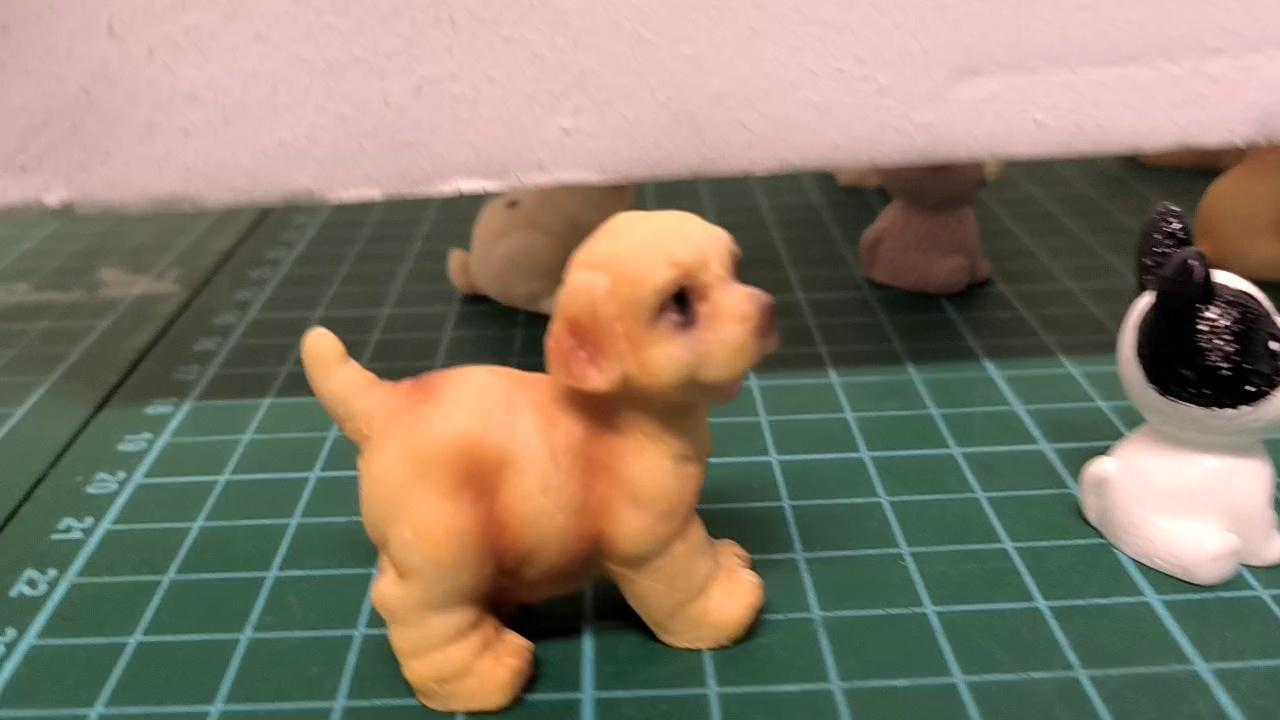pet: (303, 208, 776, 711), (1076, 202, 1280, 585)
